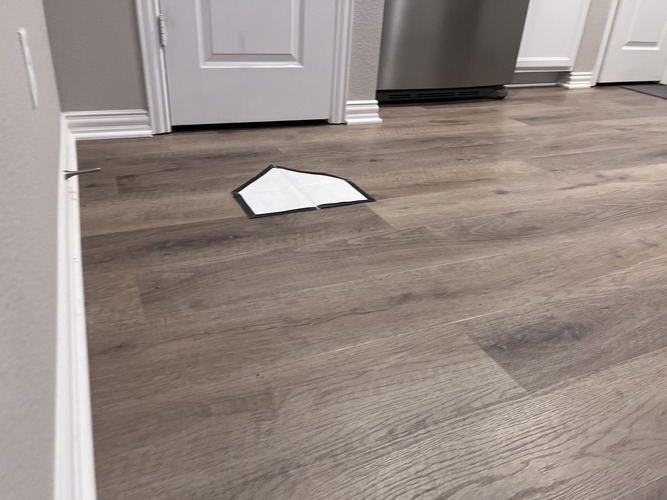homeplate: (233, 164, 372, 219)
